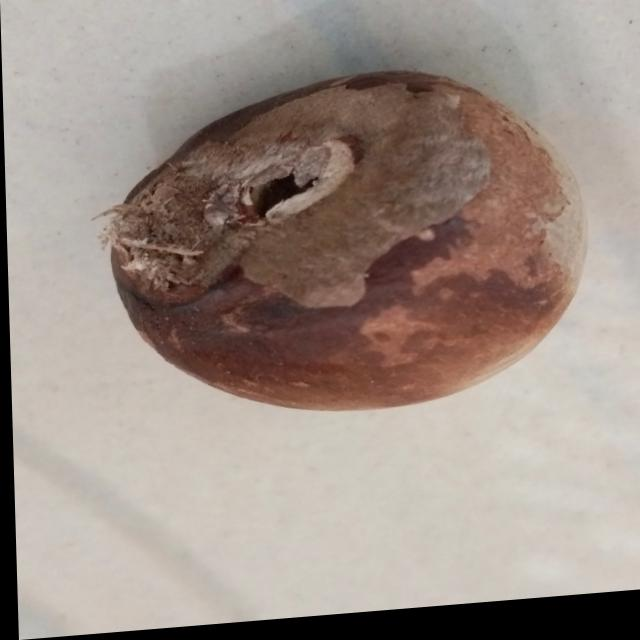karigot: (98, 49, 602, 455)
